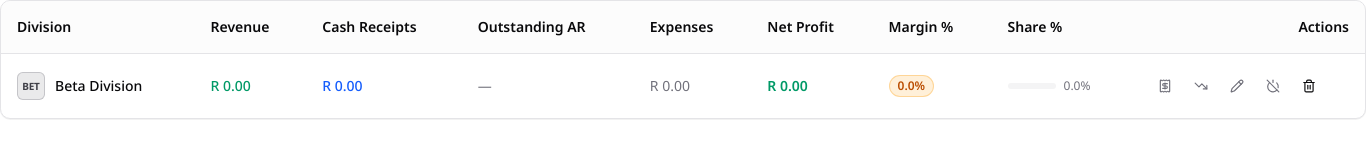
Test: DivisionsTable › clicking Cancel reverts the row to display state without saving - Validates: Requirements 3.2
This screenshot has width=1366, height=160.
Click the 1st button named "rename". click: (1237, 86)
box: left=1221, top=70, right=1253, bottom=102
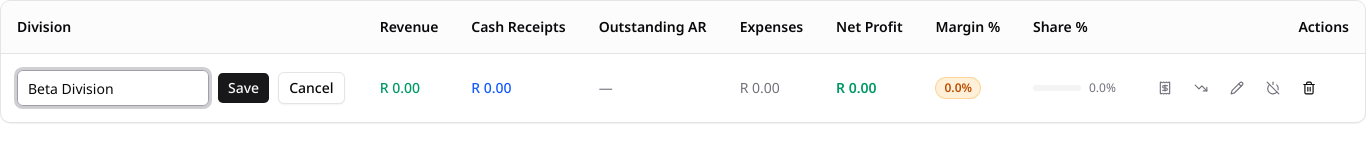
Check: the field is shown, box left=17, top=70, right=209, bottom=106
Click the button "Cancel". click: (311, 88)
box: left=278, top=72, right=344, bottom=104
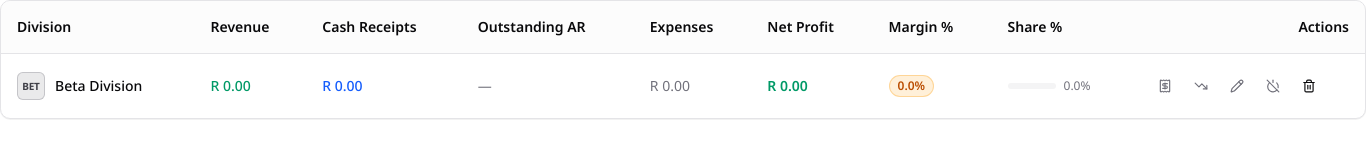
Check: the field is gone
Check: the text "Beta Division" is shown, box left=55, top=76, right=142, bottom=96
